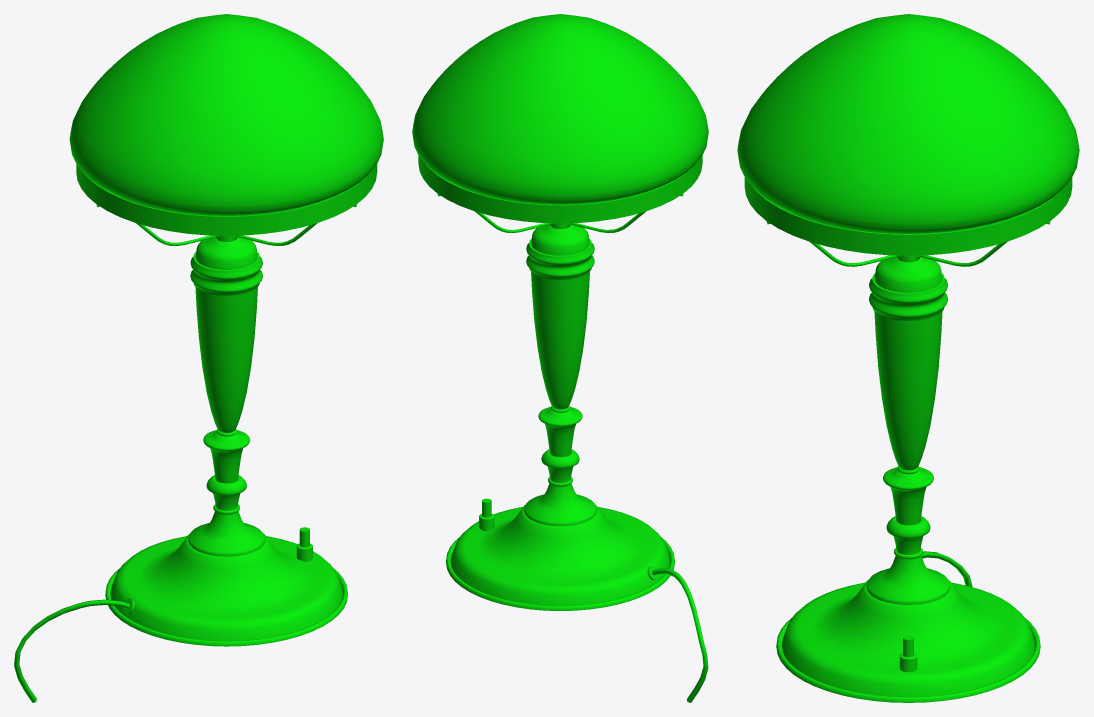
The model's file is Table_Lamp.fbx.
3 views of the same model, side by side, from view 1: azimuth 30°, elevation 25°; view 2: azimuth 150°, elevation 25°; view 3: azimuth 270°, elevation 25° (orthographic). The views are drawn at different scales.
Visible parts, largest first — view 1: Lamp_Glass, Table_Lamp; view 2: Lamp_Glass, Table_Lamp; view 3: Lamp_Glass, Table_Lamp.
Part boxes in pixels (x1,y1,x2,y2): Lamp_Glass: (69,14,383,215); Table_Lamp: (14,164,377,702); Lamp_Glass: (412,14,708,204); Table_Lamp: (418,155,708,702); Lamp_Glass: (737,14,1079,233); Table_Lamp: (744,177,1072,702).
Size of the model in its own units: 69.48 by 137 by 58.95.
